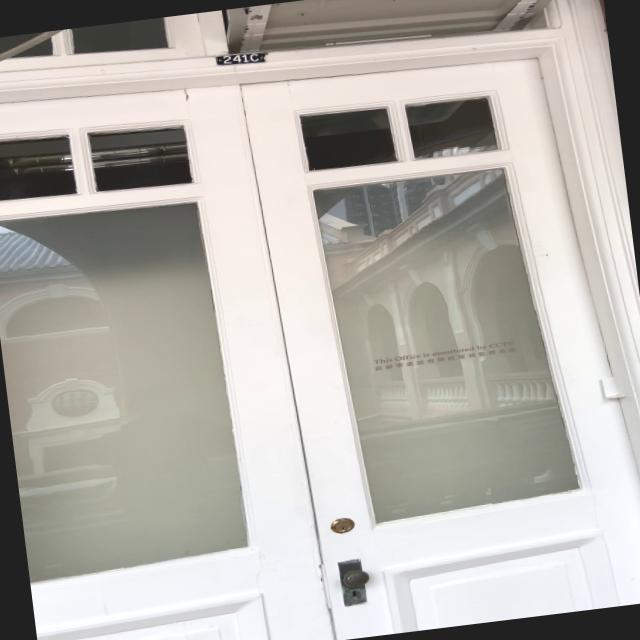room241c: (212, 46, 268, 70)
